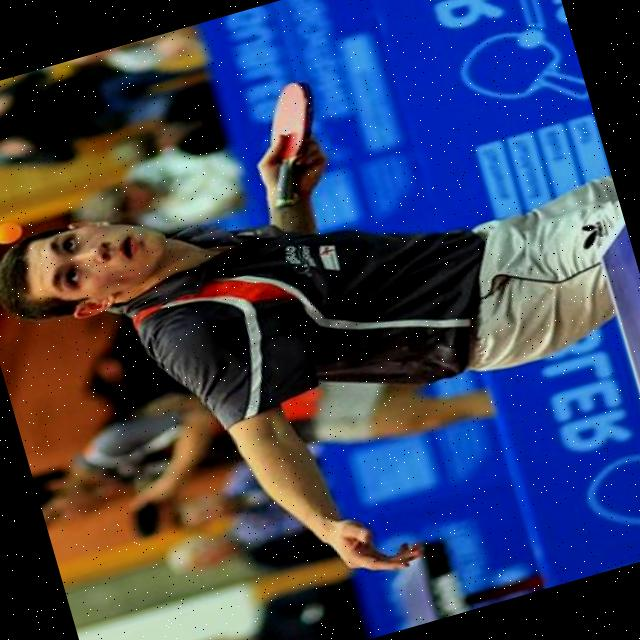ping-pong-ball: (0, 216, 25, 246)
